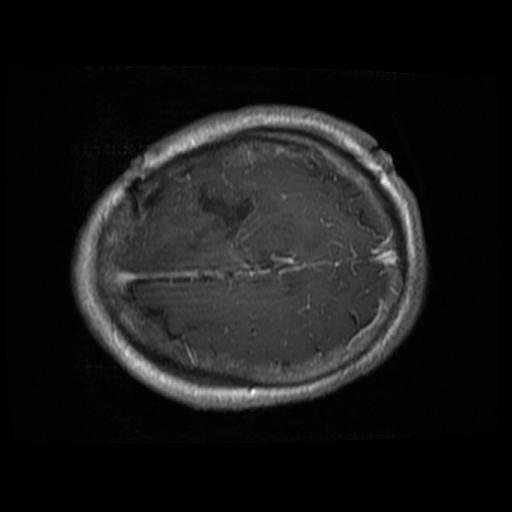glioma: (200, 194, 255, 243)
